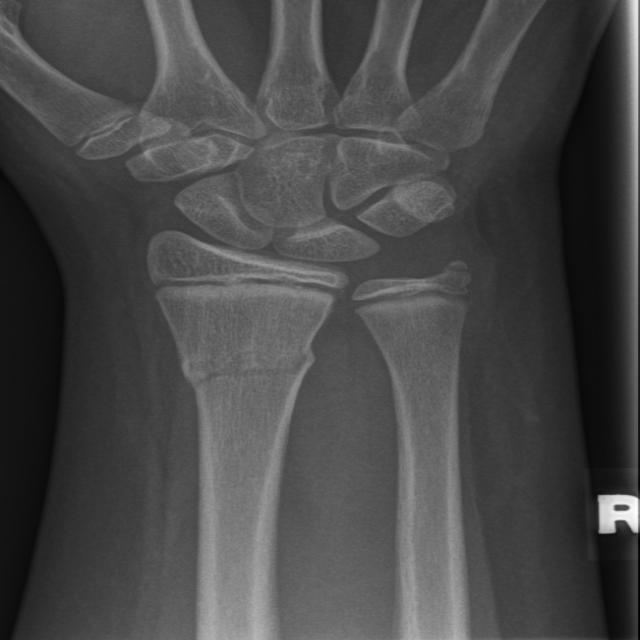radius fracture: (123, 292, 361, 475)
ulna fracture: (420, 232, 520, 434)
